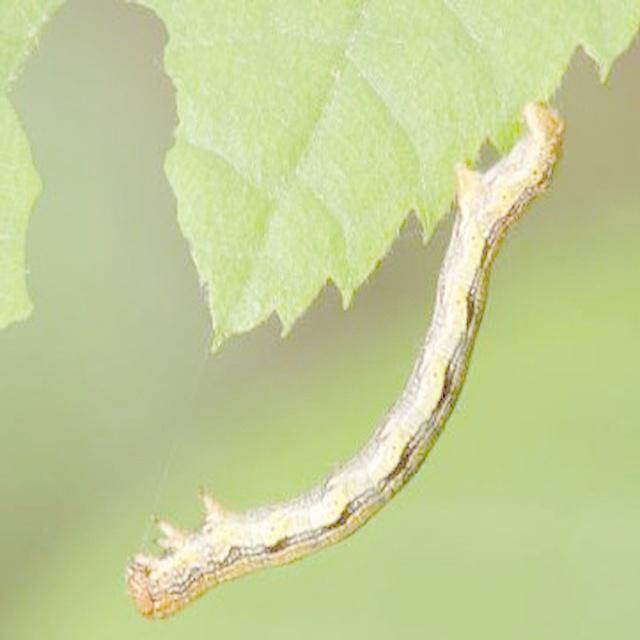gusano_cogollero: (122, 94, 568, 619)
